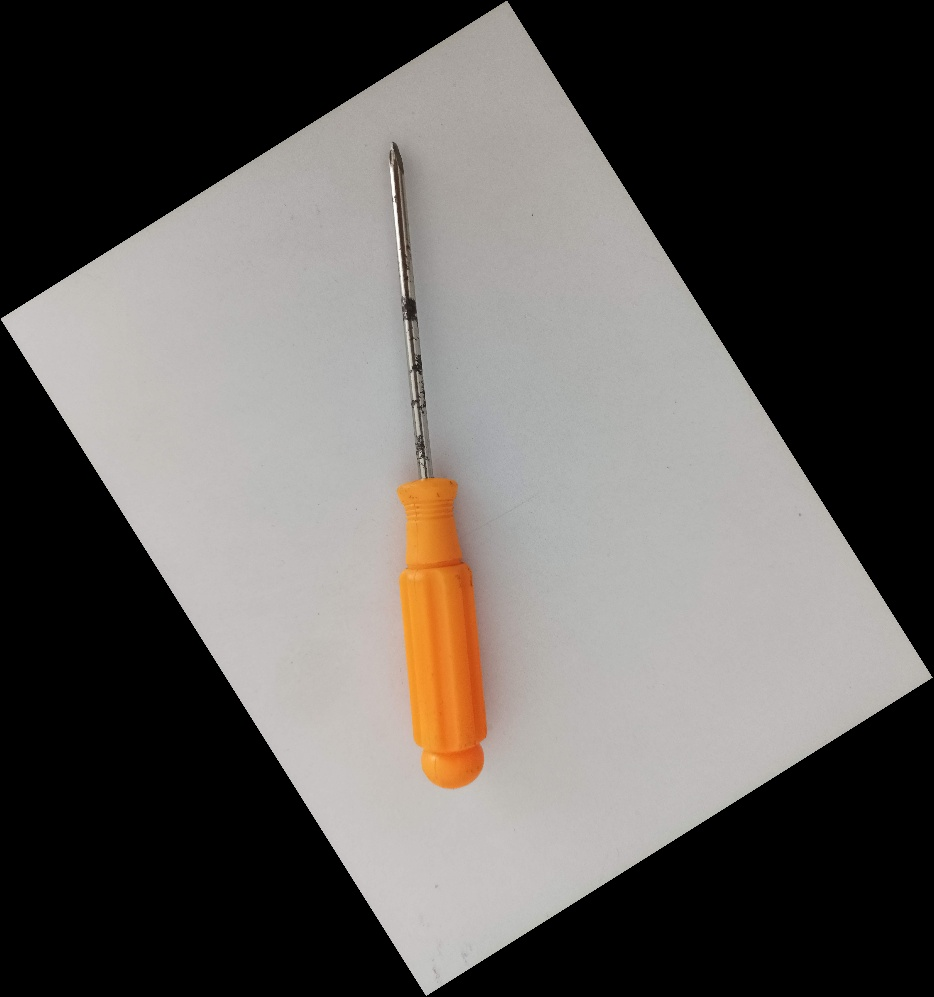screwdriver: (381, 138, 489, 792)
